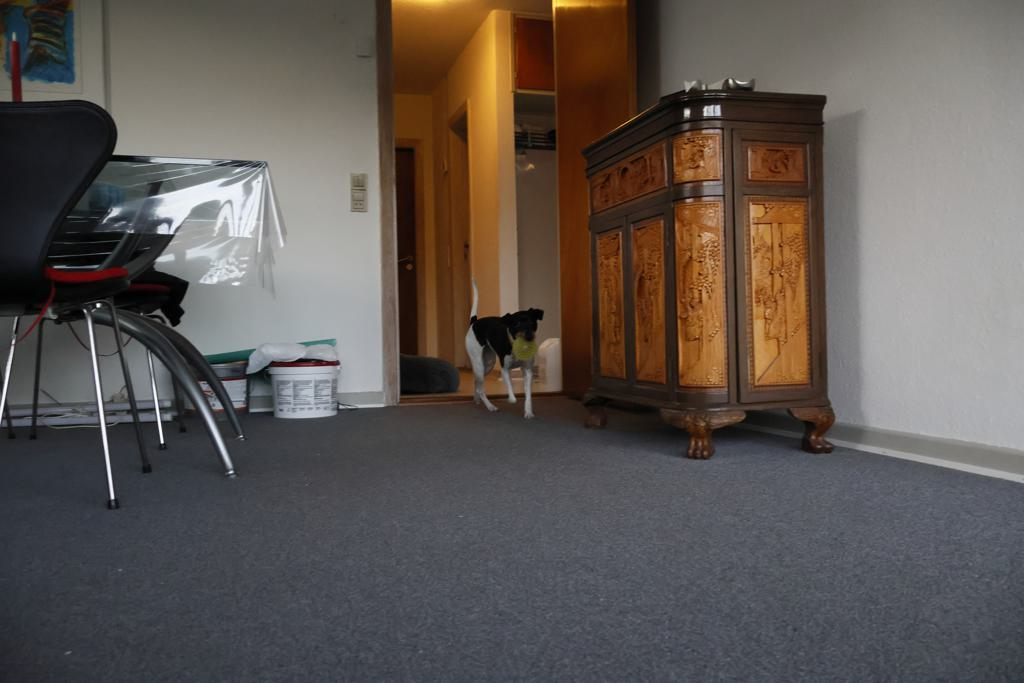Dog: (451, 273, 557, 429)
